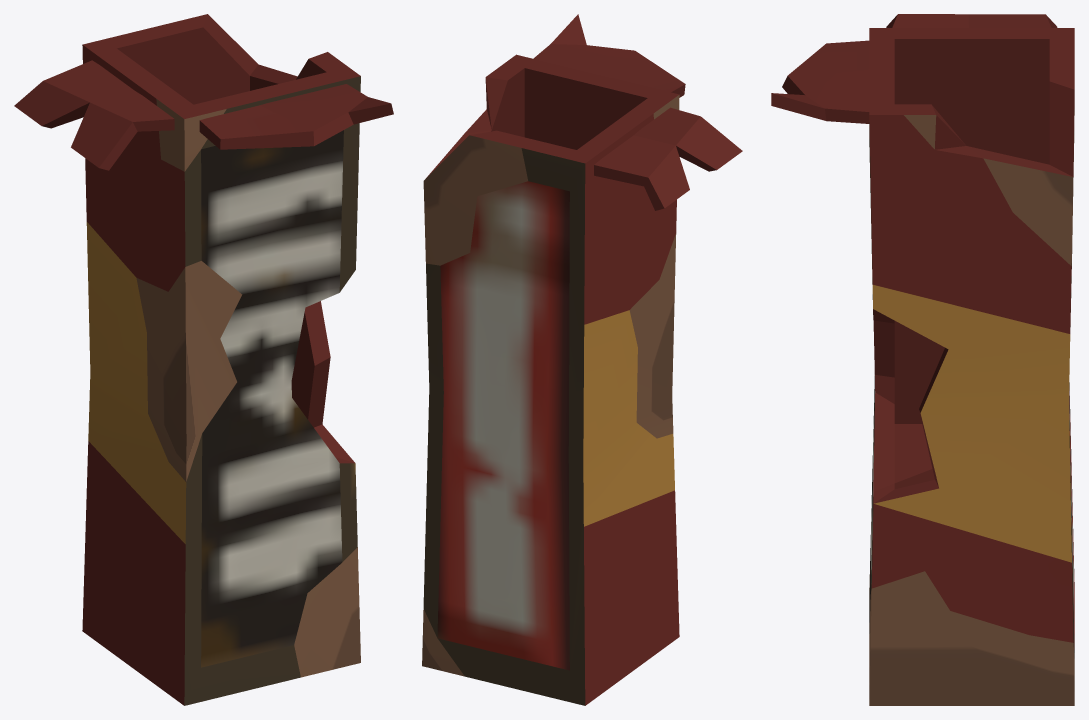
File: SM_Prop_Food_Box_04.obj
The picture shows the model from 3 angles, left to right: view 1: azimuth 30°, elevation 25°; view 2: azimuth 150°, elevation 25°; view 3: azimuth 270°, elevation 25°; orthographic projection. The views are drawn at different scales.
Visible parts, largest first — view 1: SM_Prop_Food_Box_04_0; view 2: SM_Prop_Food_Box_04_0; view 3: SM_Prop_Food_Box_04_0.
Part boxes in pixels (left/top/right/bottom): SM_Prop_Food_Box_04_0: left=14, top=14, right=393, bottom=705; SM_Prop_Food_Box_04_0: left=422, top=14, right=742, bottom=705; SM_Prop_Food_Box_04_0: left=771, top=14, right=1074, bottom=705.
Size of the model in its own units: 0.183 by 0.4134 by 0.1883.
1 material, 1 textured.
